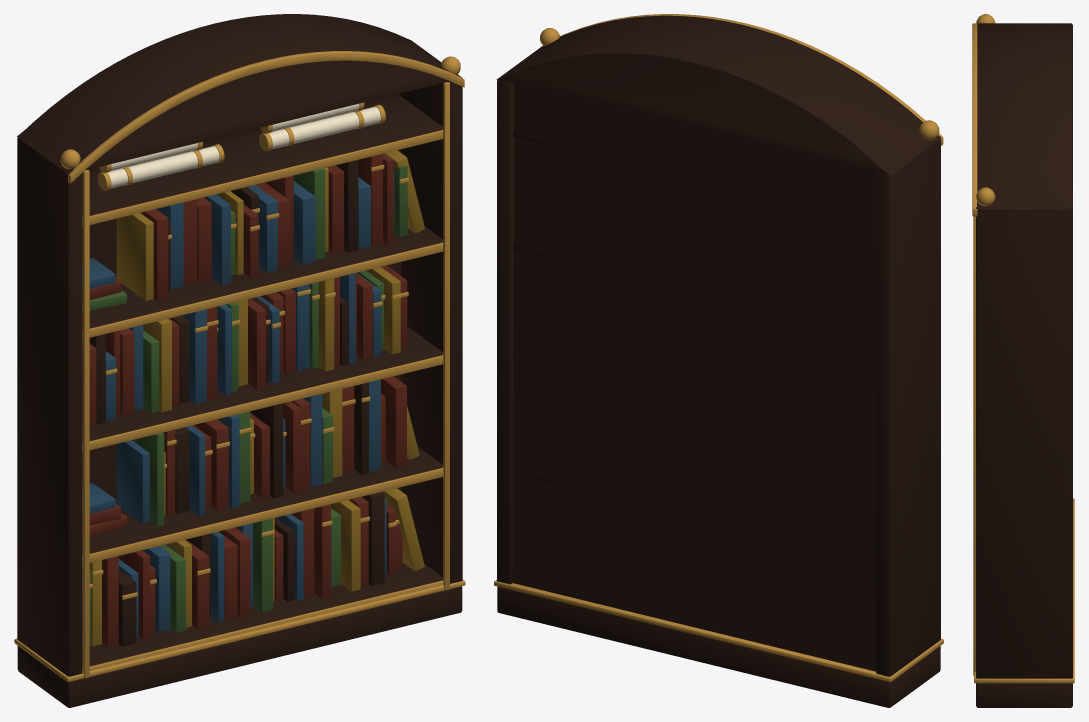
File: prop_bookshelf.glb
The picture shows the model from 3 angles, left to right: view 1: azimuth 30°, elevation 25°; view 2: azimuth 150°, elevation 25°; view 3: azimuth 270°, elevation 25°; orthographic projection. The views are drawn at different scales.
Visible parts, largest first — view 1: prop_bookshelf; view 2: prop_bookshelf; view 3: prop_bookshelf.
Part boxes in pixels (x1,y1,x2,y2): prop_bookshelf: (14, 14, 465, 707); prop_bookshelf: (494, 14, 943, 707); prop_bookshelf: (972, 14, 1074, 707).
Size of the model in its own units: 2.22 by 3.2 by 0.53.
